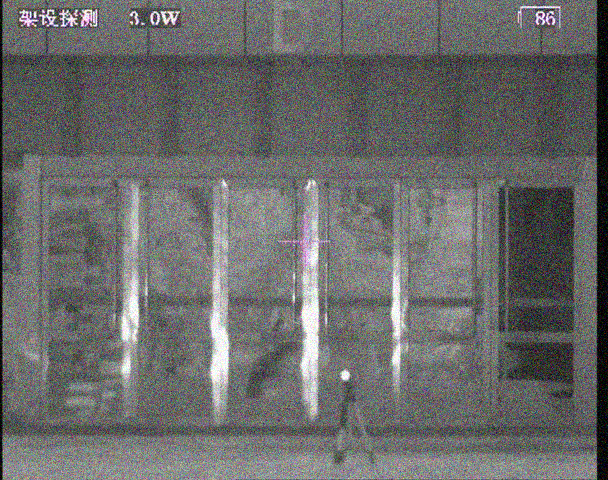my: (338, 369, 350, 382)
